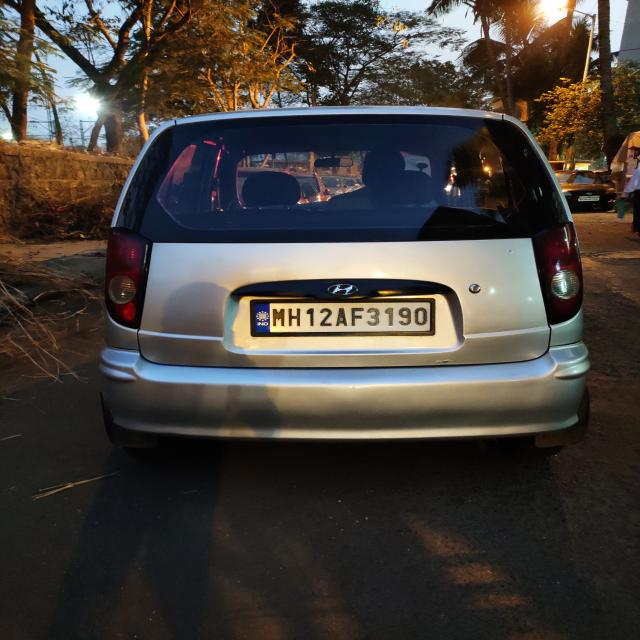Number-Plate: (253, 301, 439, 334)
